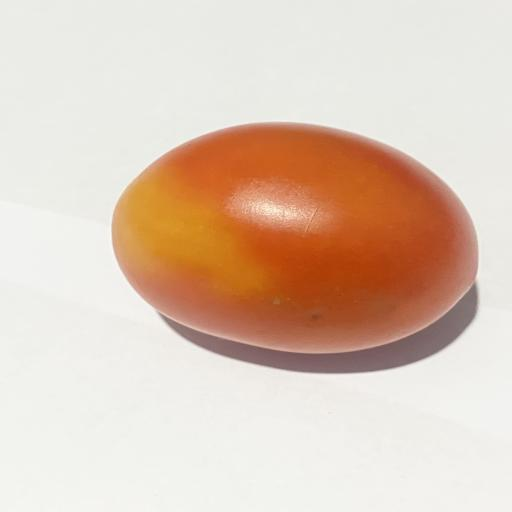ripe: (112, 123, 478, 354)
